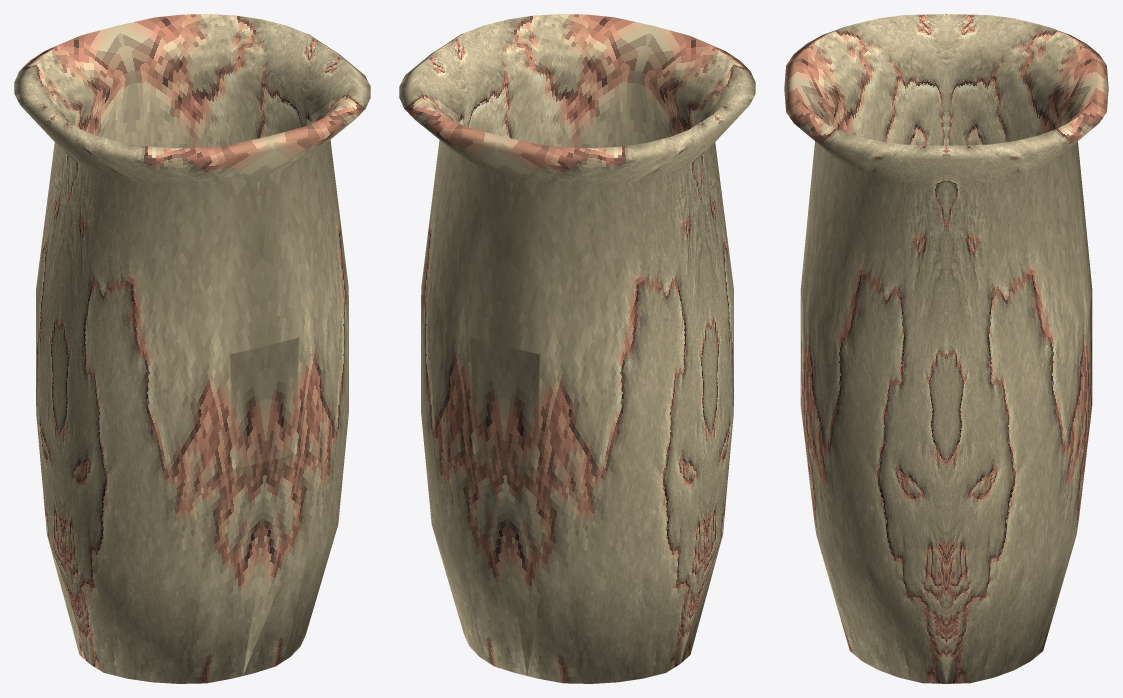
File: vase.glb
3 renders of one model, left to right at view 1: azimuth 30°, elevation 25°; view 2: azimuth 150°, elevation 25°; view 3: azimuth 270°, elevation 25°, orthographic.
Visible parts, largest first — view 1: Vase; view 2: Vase; view 3: Vase.
Part boxes in pixels (x1,y1,x2,y2): Vase: (14, 14, 370, 683); Vase: (399, 14, 755, 683); Vase: (784, 14, 1108, 683).
Size of the model in its own units: 0.5306 by 0.9632 by 0.5109.
1 material, 1 textured.
